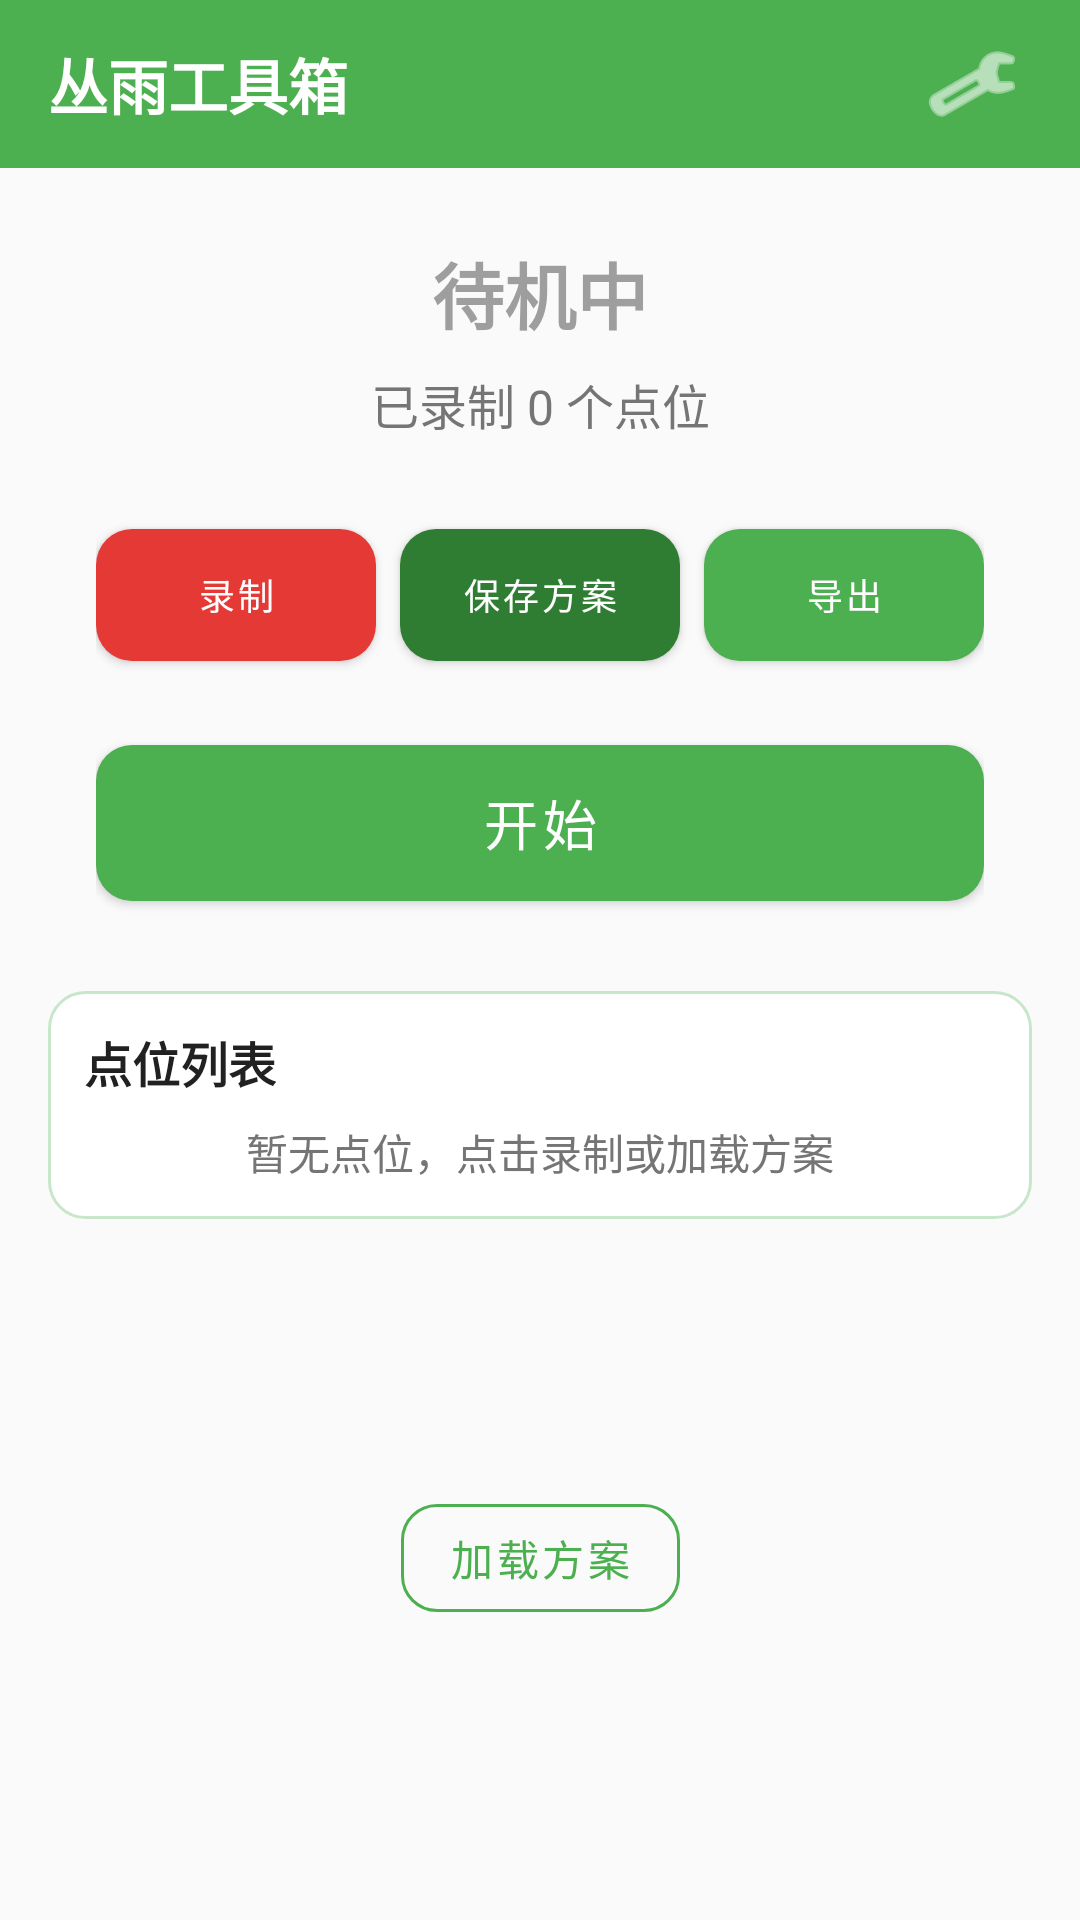

Where to tap for icons on this 1080px×1920px app screen, as [x,y]:
设置: [972,84]
